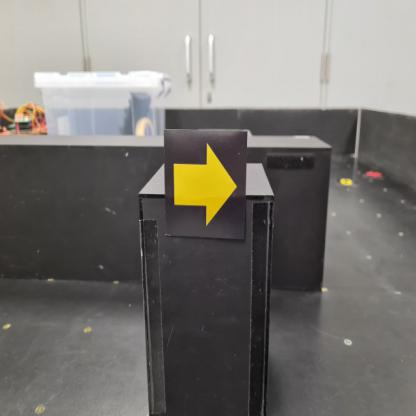right: (164, 129, 248, 242)
